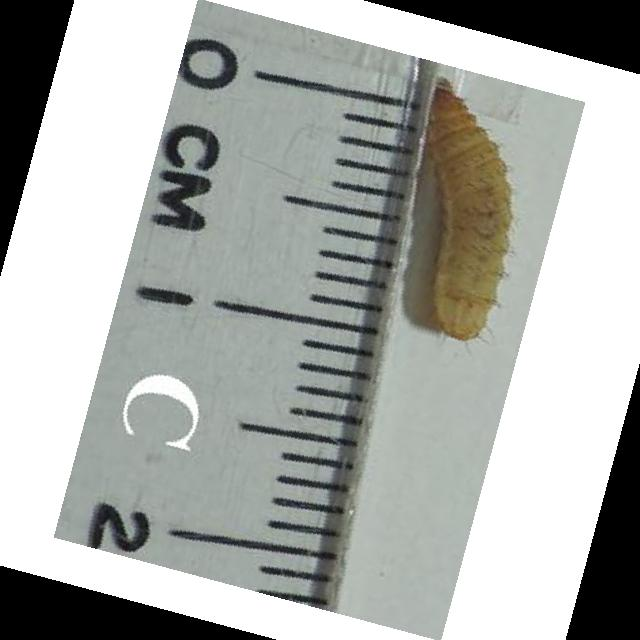Maggot: (418, 75, 518, 340)
